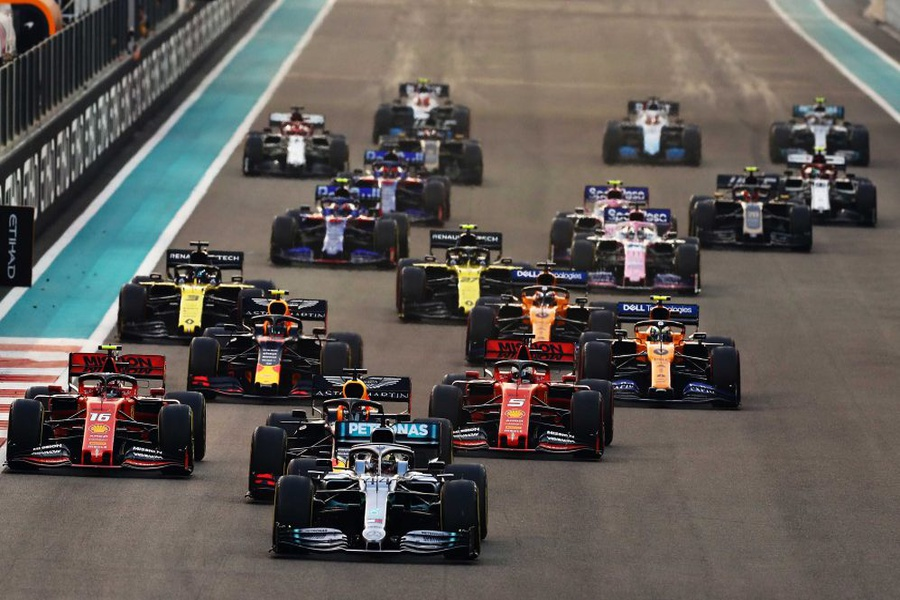Ferrari: (425, 341, 621, 455), (5, 355, 207, 465)
McLaren: (567, 303, 747, 406)
Mercedes: (269, 421, 490, 552)
Racing Point: (540, 209, 711, 291)
Red Bull Racing: (186, 298, 360, 388)
Renault: (114, 250, 279, 341), (394, 231, 540, 316)
